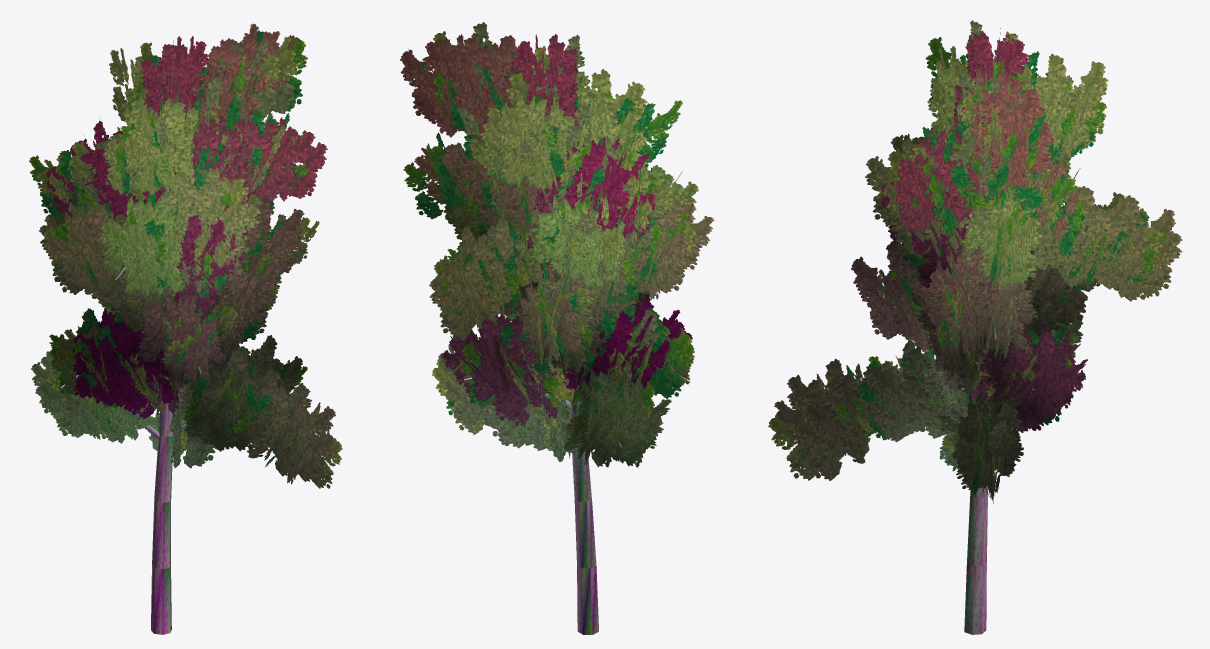
Rendered from nat_birch_c_LOD0.glb.
3 renders of one model, left to right at view 1: azimuth 30°, elevation 25°; view 2: azimuth 150°, elevation 25°; view 3: azimuth 270°, elevation 25°, orthographic. The views are drawn at different scales.
Visible parts, largest first — view 1: nat_birch_c_LOD0; view 2: nat_birch_c_LOD0; view 3: nat_birch_c_LOD0.
Part boxes in pixels (<box>): nat_birch_c_LOD0: <box>29,23,342,634</box>; nat_birch_c_LOD0: <box>400,22,714,634</box>; nat_birch_c_LOD0: <box>768,20,1182,634</box>.
Size of the model in its own units: 5.5 by 10.06 by 6.48.
Materials: 2 (2 with a texture image).
